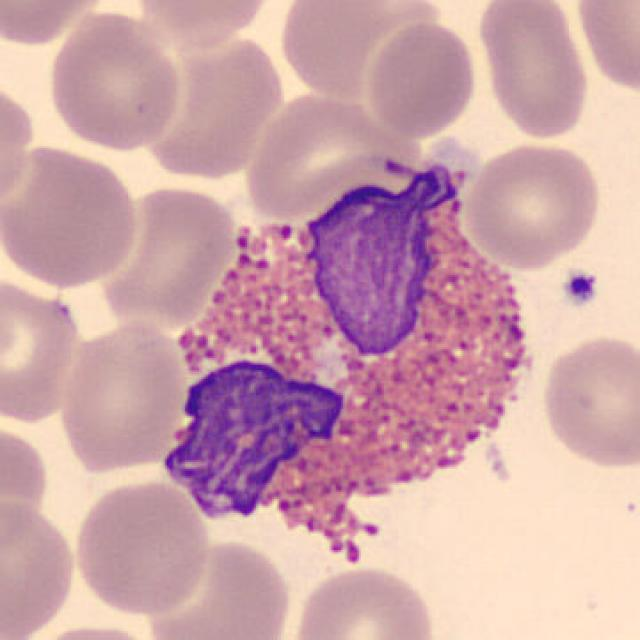Eosinophil: (144, 164, 548, 562)
Platelets: (560, 266, 603, 310)
RBC: (236, 90, 429, 223), (131, 34, 295, 178), (55, 316, 192, 476), (2, 139, 142, 291), (98, 180, 238, 330), (43, 9, 185, 153), (71, 476, 213, 619), (460, 138, 604, 270), (275, 0, 453, 106), (474, 0, 594, 143), (144, 534, 295, 640), (361, 16, 482, 141), (537, 330, 638, 470), (0, 270, 84, 423), (286, 562, 441, 640), (0, 496, 80, 638), (128, 0, 281, 48), (572, 0, 638, 97), (0, 0, 112, 49), (0, 73, 37, 220), (21, 620, 163, 640)
